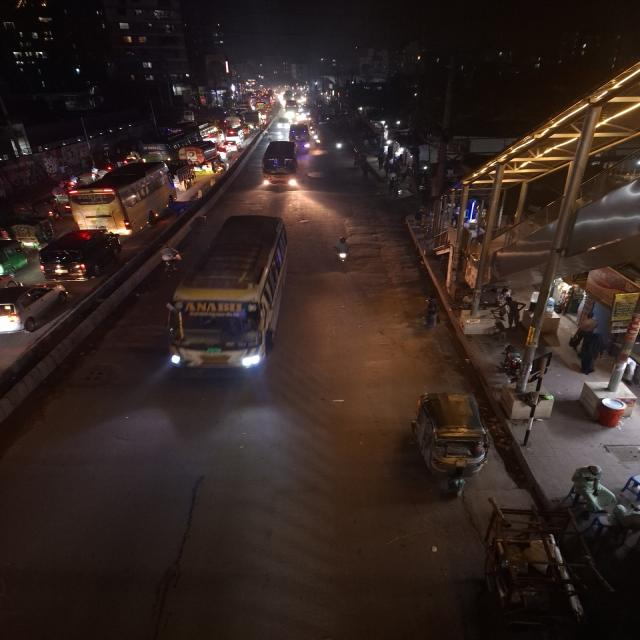bus: (170, 208, 293, 384), (63, 160, 179, 230), (261, 139, 302, 193)
car: (33, 225, 128, 287), (1, 282, 75, 336)
cng: (409, 388, 495, 501)
motorcycle: (328, 232, 359, 270)
rickshaw: (9, 217, 55, 245)
truck: (176, 141, 223, 175)
